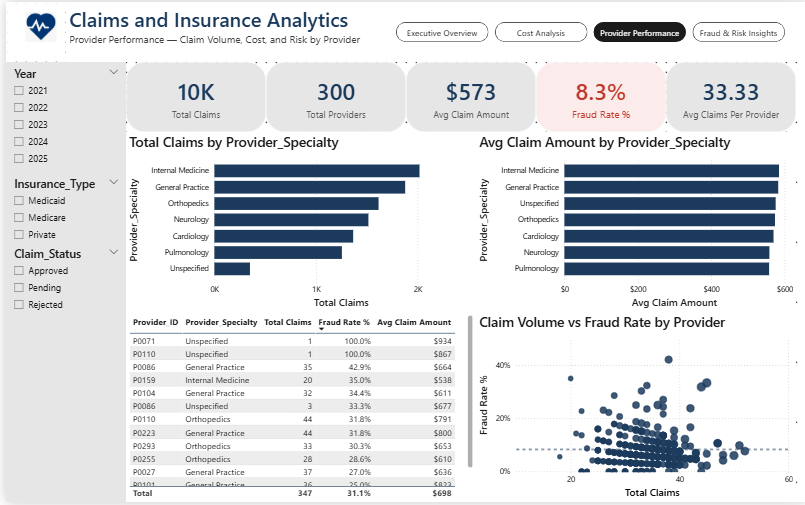

What the dashboard file says about the page in this screenshot:
{"tool":"powerbi","page":{"name":"Provider Performance","canvas":[1280,800],"ordinal":2},"visuals":[{"type":"group","id":"g1","title":"Group 1","box":[16,0,1264,96],"z":0},{"type":"textbox","box":[96,0,1184,96],"z":0,"group":"g1"},{"type":"pageNavigator","box":[624,32,624,32],"z":1000,"group":"g1"},{"type":"slicer","fields":{"Values":["DateTable.Year"]},"box":[0,96,192,176],"z":1000},{"type":"image","box":[16,16,80,48],"z":2000,"group":"g1"},{"type":"slicer","fields":{"Values":["healthcare_claims_cleaned.Insurance_Type"]},"box":[0,272,192,192],"z":2000},{"type":"slicer","fields":{"Values":["healthcare_claims_cleaned.Claim_Status"]},"box":[0,384,192,416],"z":3000},{"type":"card","fields":{"Values":["healthcare_claims_cleaned.Total Claims"]},"box":[192,96,224,112],"z":4000},{"type":"card","fields":{"Values":["healthcare_claims_cleaned.Total Providers"]},"box":[416,96,224,112],"z":5000},{"type":"card","fields":{"Values":["healthcare_claims_cleaned.Avg Claim Amount"]},"box":[640,96,208,112],"z":6000},{"type":"card","fields":{"Values":["healthcare_claims_cleaned.Fraud Rate %"]},"box":[848,96,208,112],"z":7000},{"type":"card","fields":{"Values":["healthcare_claims_cleaned.Avg Claims Per Provider"]},"box":[1056,96,208,112],"z":8000},{"type":"clusteredBarChart","fields":{"Category":["healthcare_claims_cleaned.Provider_Specialty"],"Y":["healthcare_claims_cleaned.Avg Claim Amount"]},"box":[752,208,512,288],"z":9000},{"type":"clusteredBarChart","fields":{"Category":["healthcare_claims_cleaned.Provider_Specialty"],"Y":["healthcare_claims_cleaned.Total Claims"]},"box":[192,208,560,288],"z":10000},{"type":"tableEx","fields":{"Values":["healthcare_claims_cleaned.Provider_ID","healthcare_claims_cleaned.Provider_Specialty","healthcare_claims_cleaned.Total Claims","healthcare_claims_cleaned.Fraud Rate %","healthcare_claims_cleaned.Avg Claim Amount"]},"box":[192,496,560,304],"z":11000},{"type":"scatterChart","title":"Claim Volume vs Fraud Rate by Provider","fields":{"X":["healthcare_claims_cleaned.Total Claims"],"Y":["healthcare_claims_cleaned.Fraud Rate %"],"Size":["healthcare_claims_cleaned.Total Billed Amount"],"Category":["healthcare_claims_cleaned.Provider_ID"]},"box":[752,496,512,304],"z":12000}]}

Visuals, with their boxes in screenshot pixels (x1, y1, x2, y2), scaled from the page's 1280x800 canvas onto the 805x505 screenshot:
"Group 1" group: locate(10, 0, 804, 61)
textbox: locate(60, 0, 804, 61)
pageNavigator: locate(392, 20, 785, 40)
slicer - DateTable.Year: locate(0, 61, 121, 172)
image: locate(10, 10, 60, 40)
slicer - healthcare_claims_cleaned.Insurance_Type: locate(0, 172, 121, 293)
slicer - healthcare_claims_cleaned.Claim_Status: locate(0, 242, 121, 504)
card - healthcare_claims_cleaned.Total Claims: locate(121, 61, 262, 131)
card - healthcare_claims_cleaned.Total Providers: locate(262, 61, 402, 131)
card - healthcare_claims_cleaned.Avg Claim Amount: locate(402, 61, 533, 131)
card - healthcare_claims_cleaned.Fraud Rate %: locate(533, 61, 664, 131)
card - healthcare_claims_cleaned.Avg Claims Per Provider: locate(664, 61, 795, 131)
clusteredBarChart - healthcare_claims_cleaned.Provider_Specialty x healthcare_claims_cleaned.Avg Claim Amount: locate(473, 131, 795, 313)
clusteredBarChart - healthcare_claims_cleaned.Provider_Specialty x healthcare_claims_cleaned.Total Claims: locate(121, 131, 473, 313)
tableEx - healthcare_claims_cleaned.Provider_ID x healthcare_claims_cleaned.Provider_Specialty: locate(121, 313, 473, 504)
"Claim Volume vs Fraud Rate by Provider" scatterChart: locate(473, 313, 795, 504)
